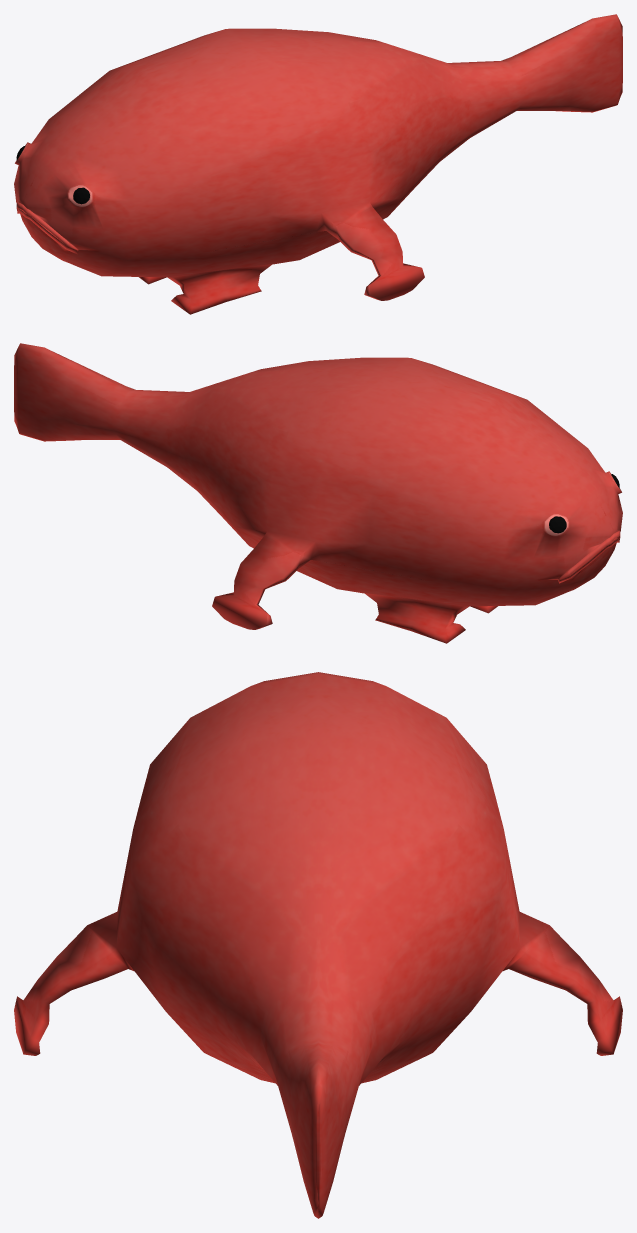
File: Albatross coffinfish.glb
3 renders of one model, top to bottom at view 1: azimuth 30°, elevation 25°; view 2: azimuth 150°, elevation 25°; view 3: azimuth 270°, elevation 25°, orthographic. The views are drawn at different scales.
Parts seen in each view (by area): view 1: Circle; view 2: Circle; view 3: Circle.
Part boxes in pixels (<box>): Circle: <box>14,14,622,314</box>; Circle: <box>14,343,622,643</box>; Circle: <box>14,672,622,1218</box>.
Bounding box in the file's own units: 3.52 × 1.28 × 2.11.
Materials: 2 (1 with a texture image).
